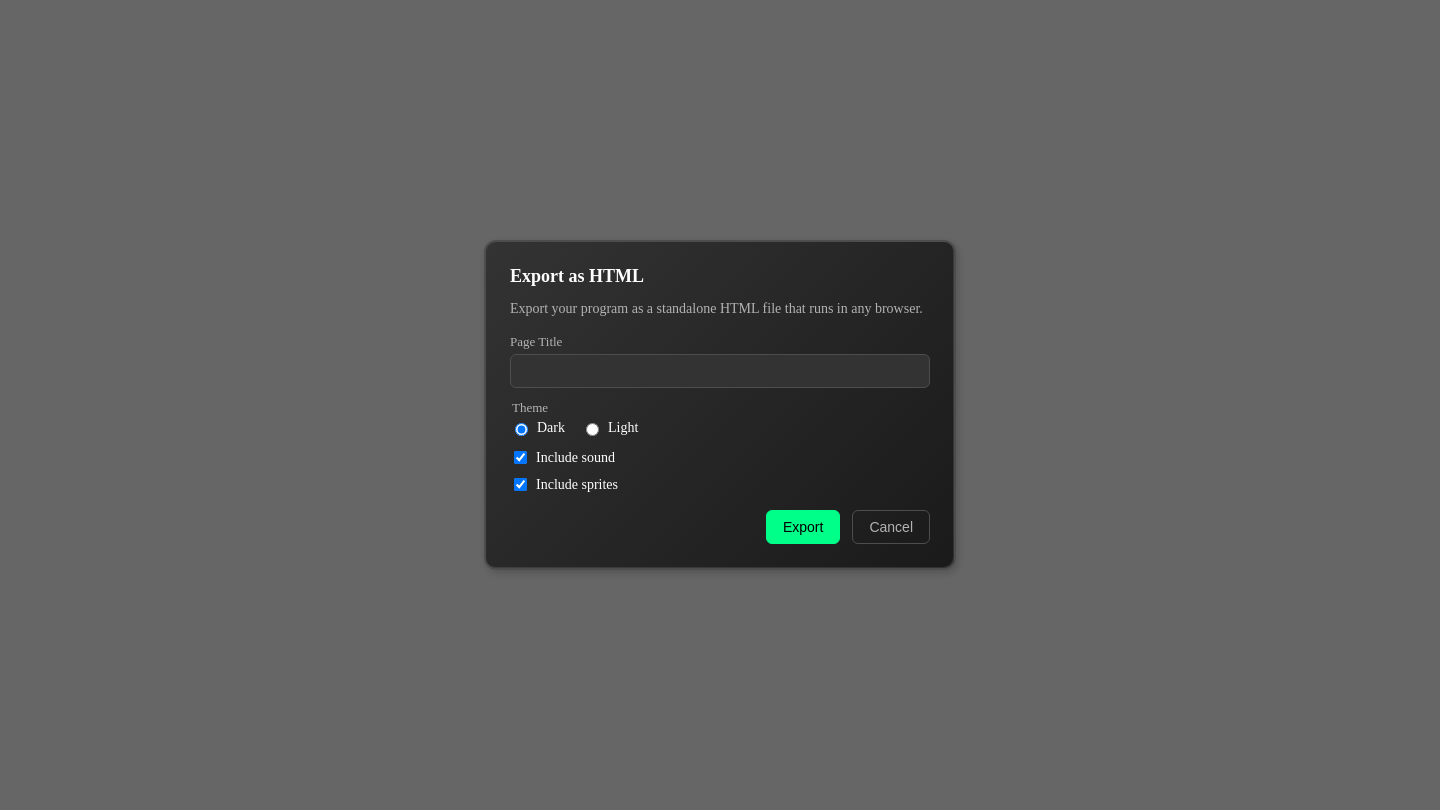
Test: ExportHtmlDialog › theme selection works for dark and light
The width and height of the screenshot is (1440, 810).
Check: the radio button with test id "export-html-theme-dark" is checked, box [515,423,528,436]
Note: Select light theme
Click the radio button with test id "export-html-theme-light" at (592, 430), box [586,423,599,436]
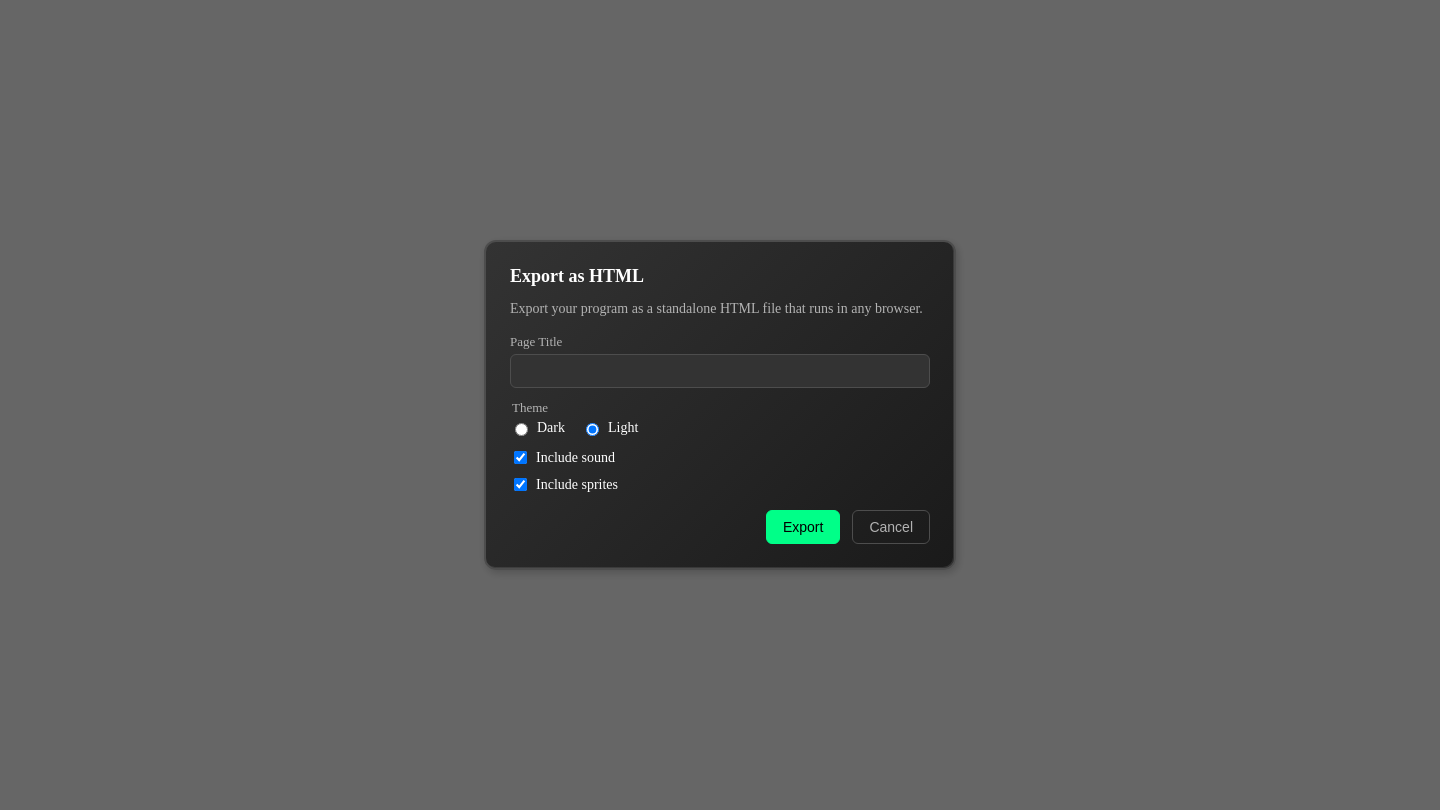
Check: the radio button with test id "export-html-theme-light" is checked, box [586,423,599,436]
